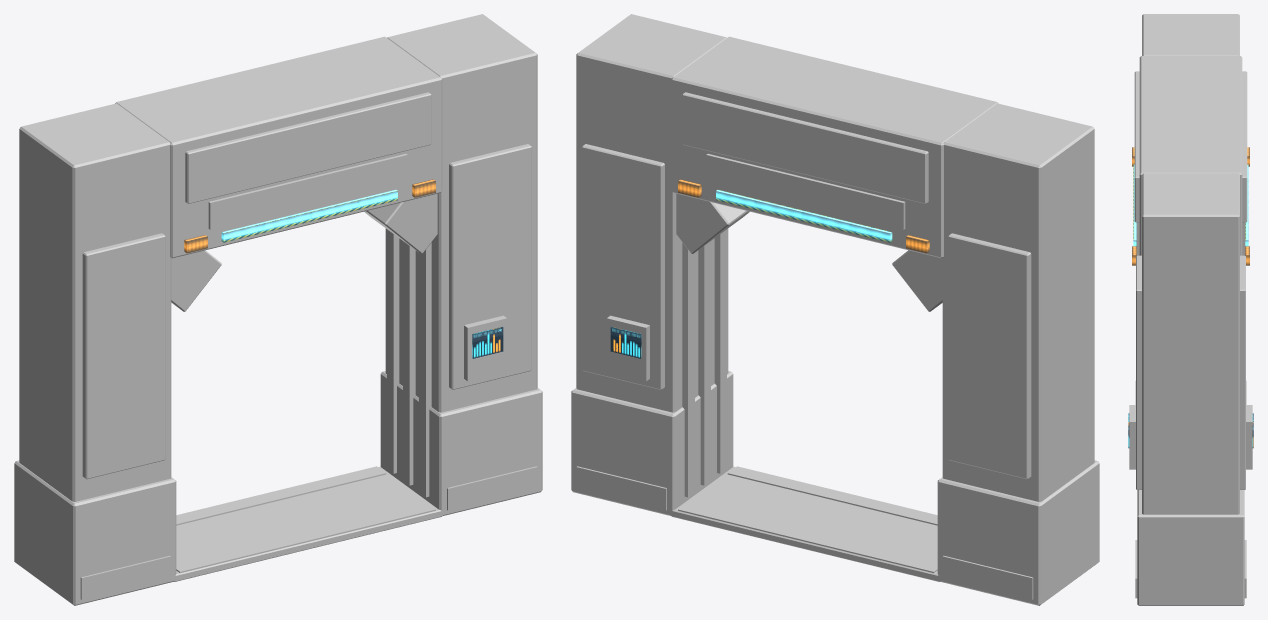
File: SF_Bulkhead_Arch_LOD1.fbx
3 renders of one model, left to right at view 1: azimuth 30°, elevation 25°; view 2: azimuth 150°, elevation 25°; view 3: azimuth 270°, elevation 25°, orthographic. The views are drawn at different scales.
Visible parts, largest first — view 1: SF_Bulkhead_Arch_LOD1; view 2: SF_Bulkhead_Arch_LOD1; view 3: SF_Bulkhead_Arch_LOD1.
Part boxes in pixels (x1=…): SF_Bulkhead_Arch_LOD1: x1=14, y1=14, x2=542, y2=605; SF_Bulkhead_Arch_LOD1: x1=571, y1=14, x2=1099, y2=605; SF_Bulkhead_Arch_LOD1: x1=1128, y1=14, x2=1253, y2=605.
Size of the model in its own units: 4.04 by 3.6 by 1.05.
